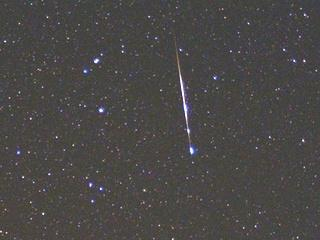meteorite: (167, 36, 196, 151)
